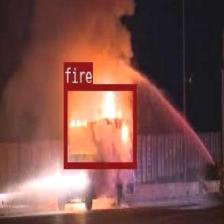fire: (63, 82, 136, 168)
